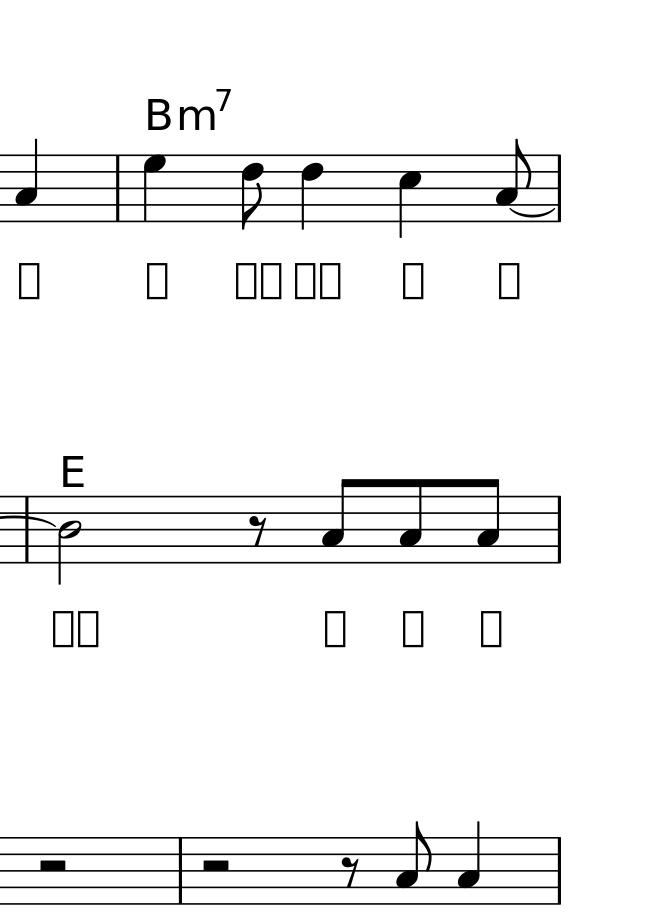2_4: (56, 494, 82, 583)
4_3: (457, 819, 483, 908), (16, 138, 40, 224)
4_5: (396, 153, 423, 238)
4_6: (299, 153, 324, 231)
4_7: (141, 152, 167, 225)
7: (213, 84, 233, 113)
8_3: (494, 138, 535, 225), (394, 818, 433, 906), (322, 477, 352, 566), (399, 477, 426, 567), (477, 476, 503, 565)
8_6: (239, 154, 266, 234)
Rests2: (200, 857, 234, 880), (38, 857, 73, 877)
Rests8: (247, 512, 269, 548), (341, 854, 361, 890)
Single_barline: (547, 495, 573, 565), (169, 838, 194, 904), (547, 837, 570, 903), (110, 155, 128, 223), (549, 154, 567, 222)
Slur: (505, 208, 557, 218)
